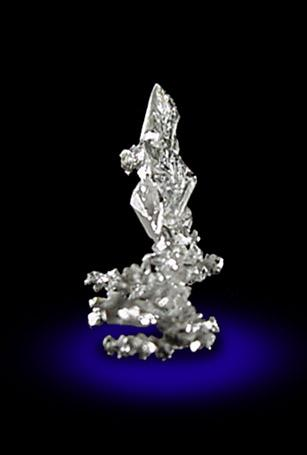silver: (85, 85, 224, 362)
